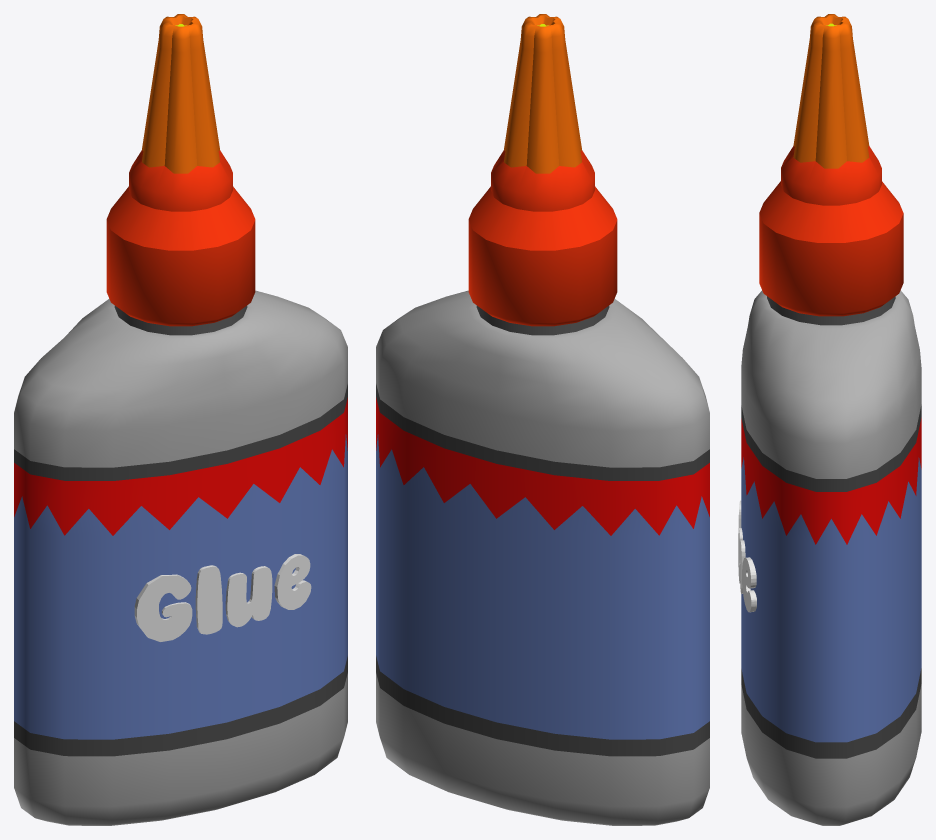
The model's file is Glue.fbx.
3 renders of one model, left to right at view 1: azimuth 30°, elevation 25°; view 2: azimuth 150°, elevation 25°; view 3: azimuth 270°, elevation 25°, orthographic. The views are drawn at different scales.
Parts seen in each view (by area): view 1: Glue; view 2: Glue; view 3: Glue.
Part boxes in pixels (x1,y1,x2,y2): Glue: (14,14,347,825); Glue: (376,14,709,825); Glue: (738,14,921,825).
Bounding box in the file's own units: 197 × 452 × 102.
